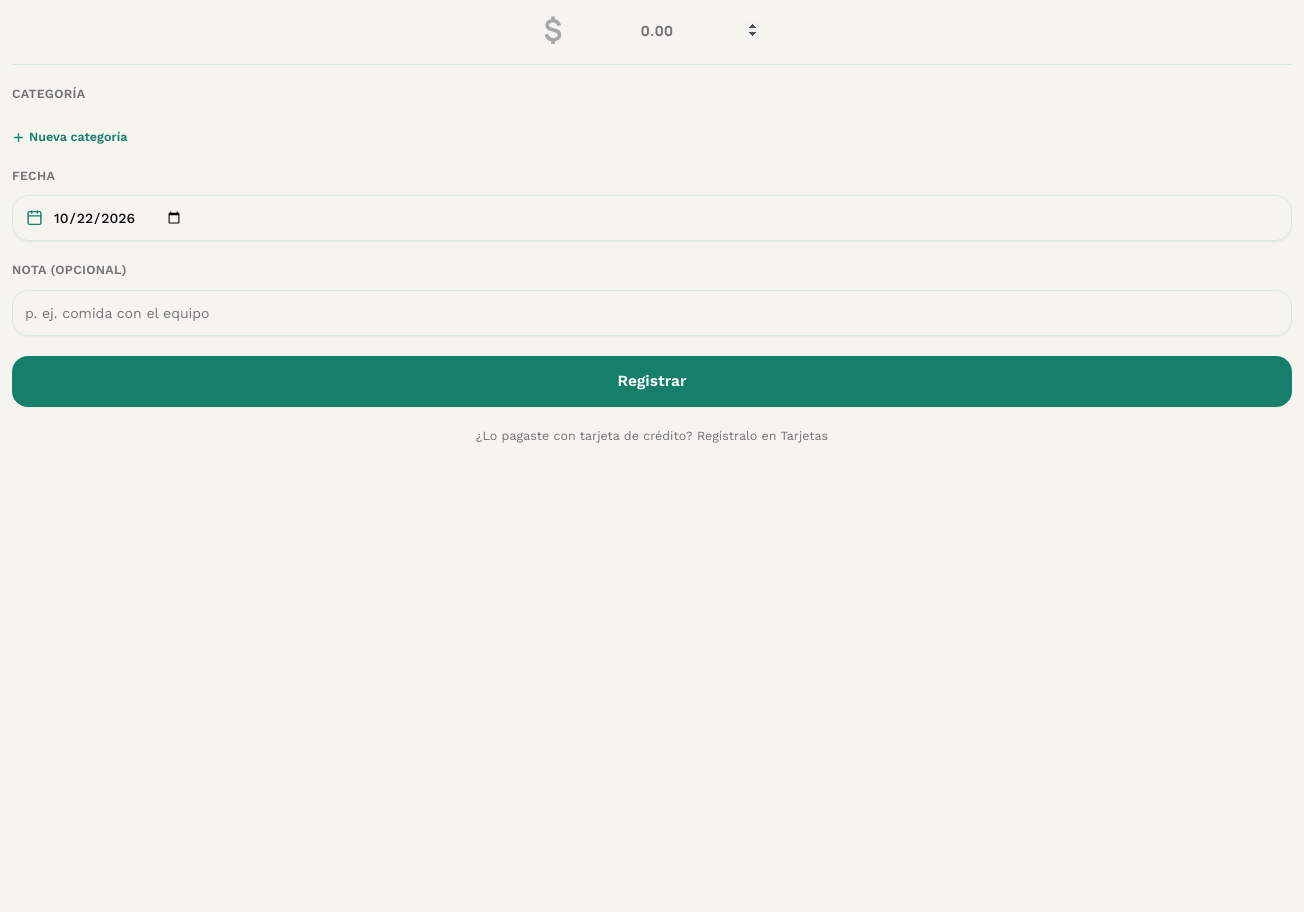
Test: FormularioGasto — un gasto mayor al disponible pide confirmación › con la quincena ya en negativo, cualquier gasto pide confirmación y dice cuánto quedaría
The width and height of the screenshot is (1304, 912).
Type "10" into the number field named "¿Cuánto gastaste?" at (664, 30), box [568,20,760,40]
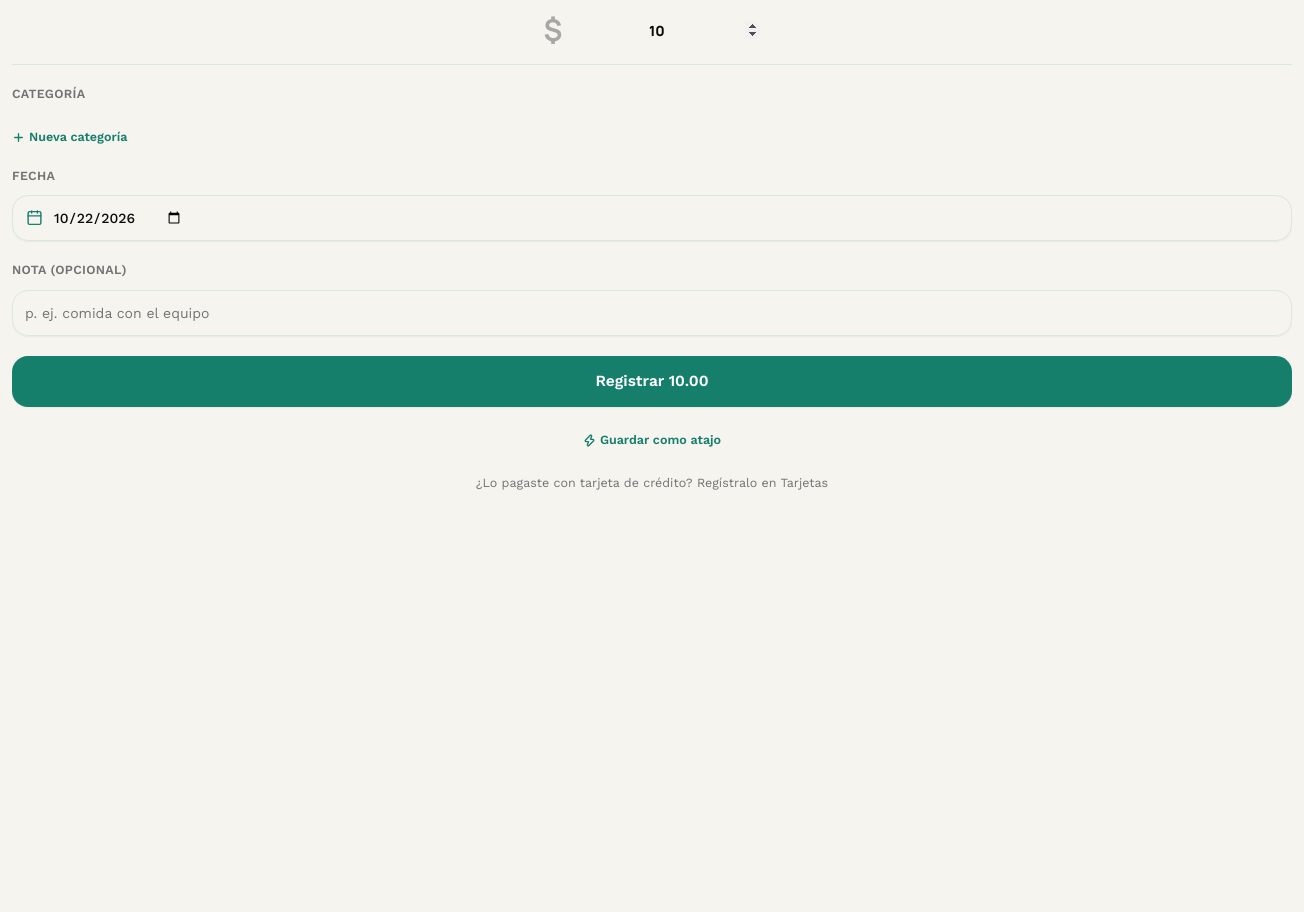
Click the button "Registrar 10.00" at (652, 382), box [12,356,1292,407]
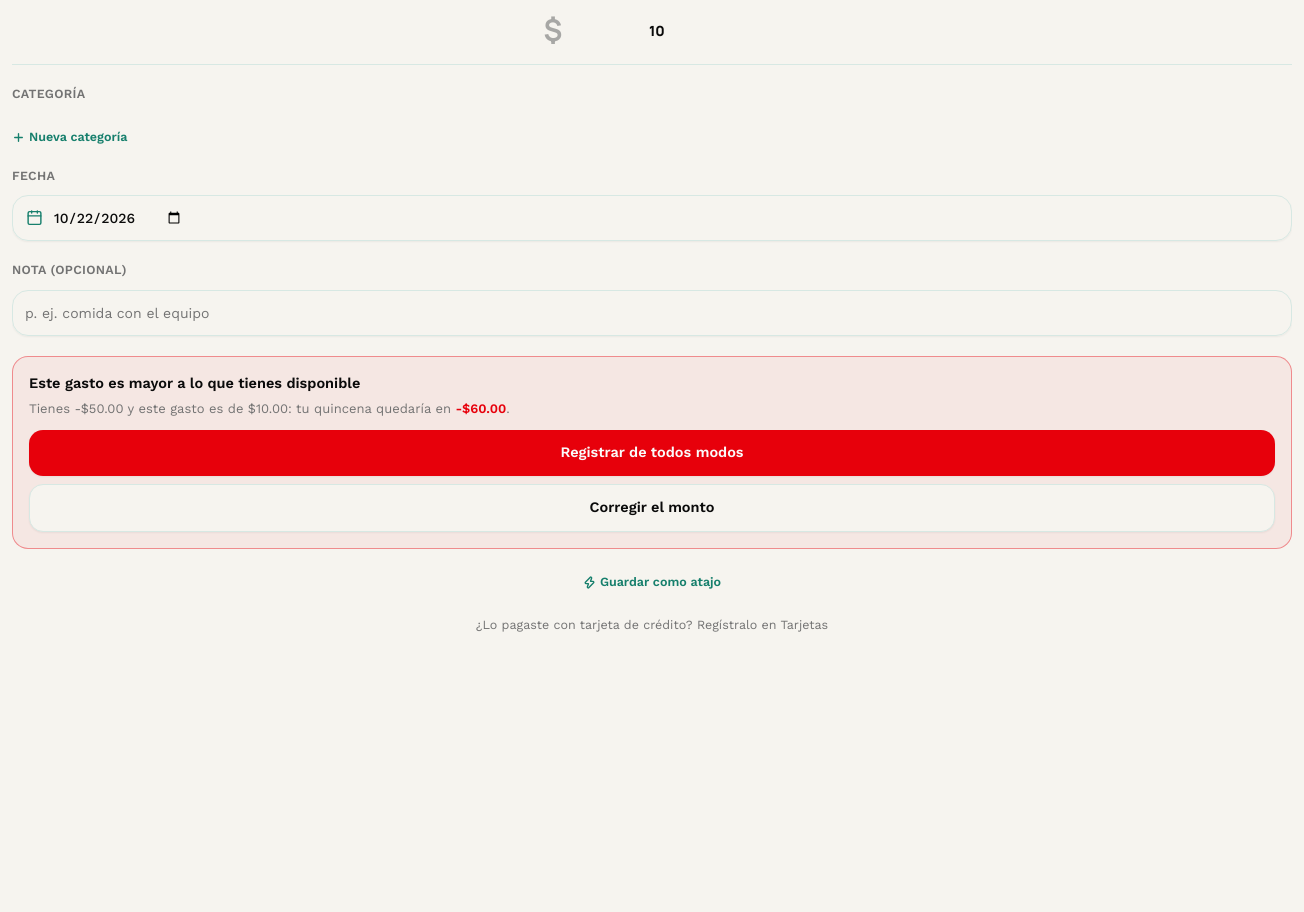
Expected: the message shows "-$60.00", [12,356,1292,549]
